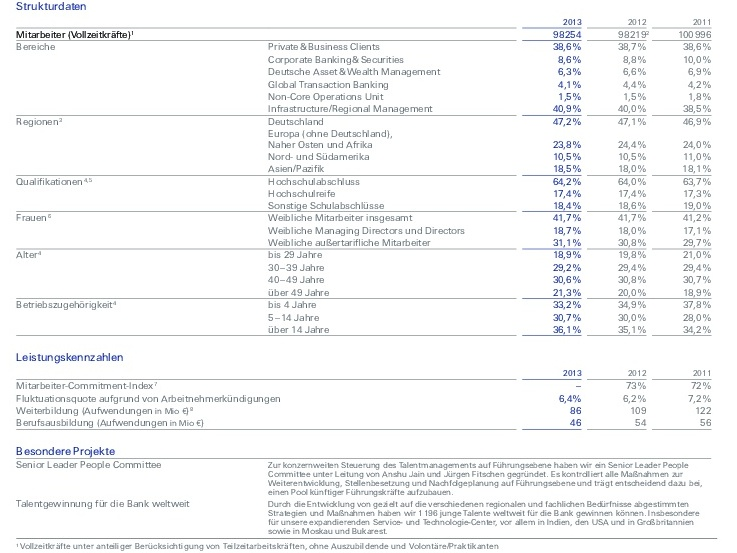table: (0, 0, 737, 553)
